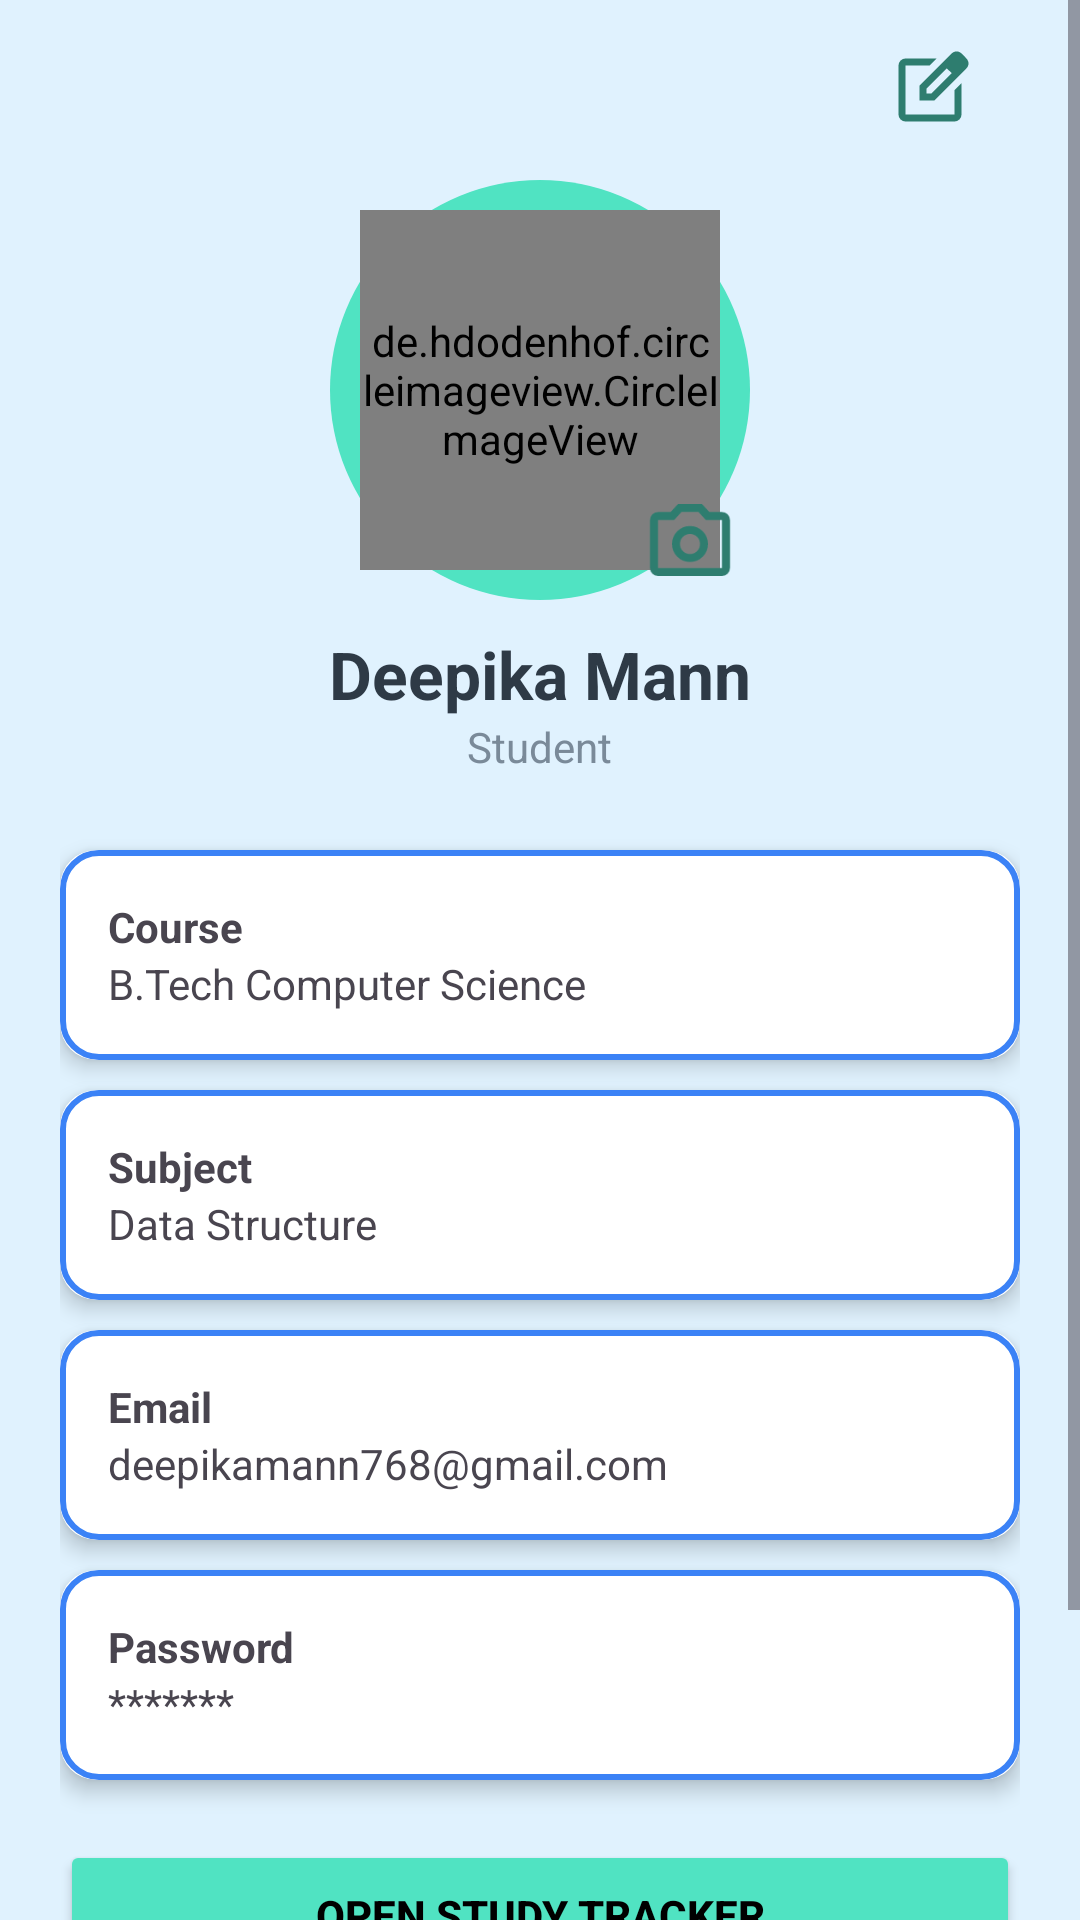

Icons on this 1080px x 1920px Android screen, each with the point to tap as (x=x, y=y):
Change Profile Photo: (x=690, y=540)
Edit Profile: (x=933, y=86)
